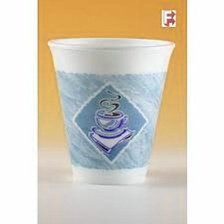paper_cup: (42, 30, 178, 190)
